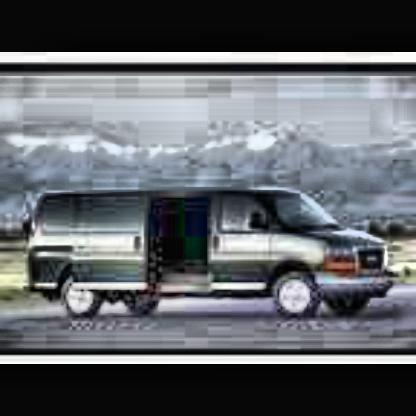GMC Savana Van 2012: (27, 186, 408, 324)
